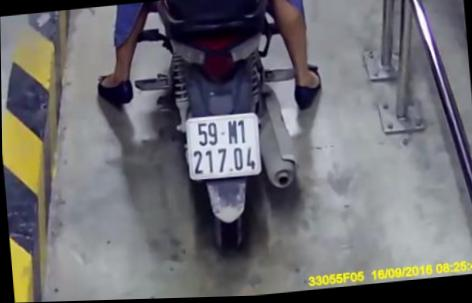LP: (182, 111, 263, 185)
